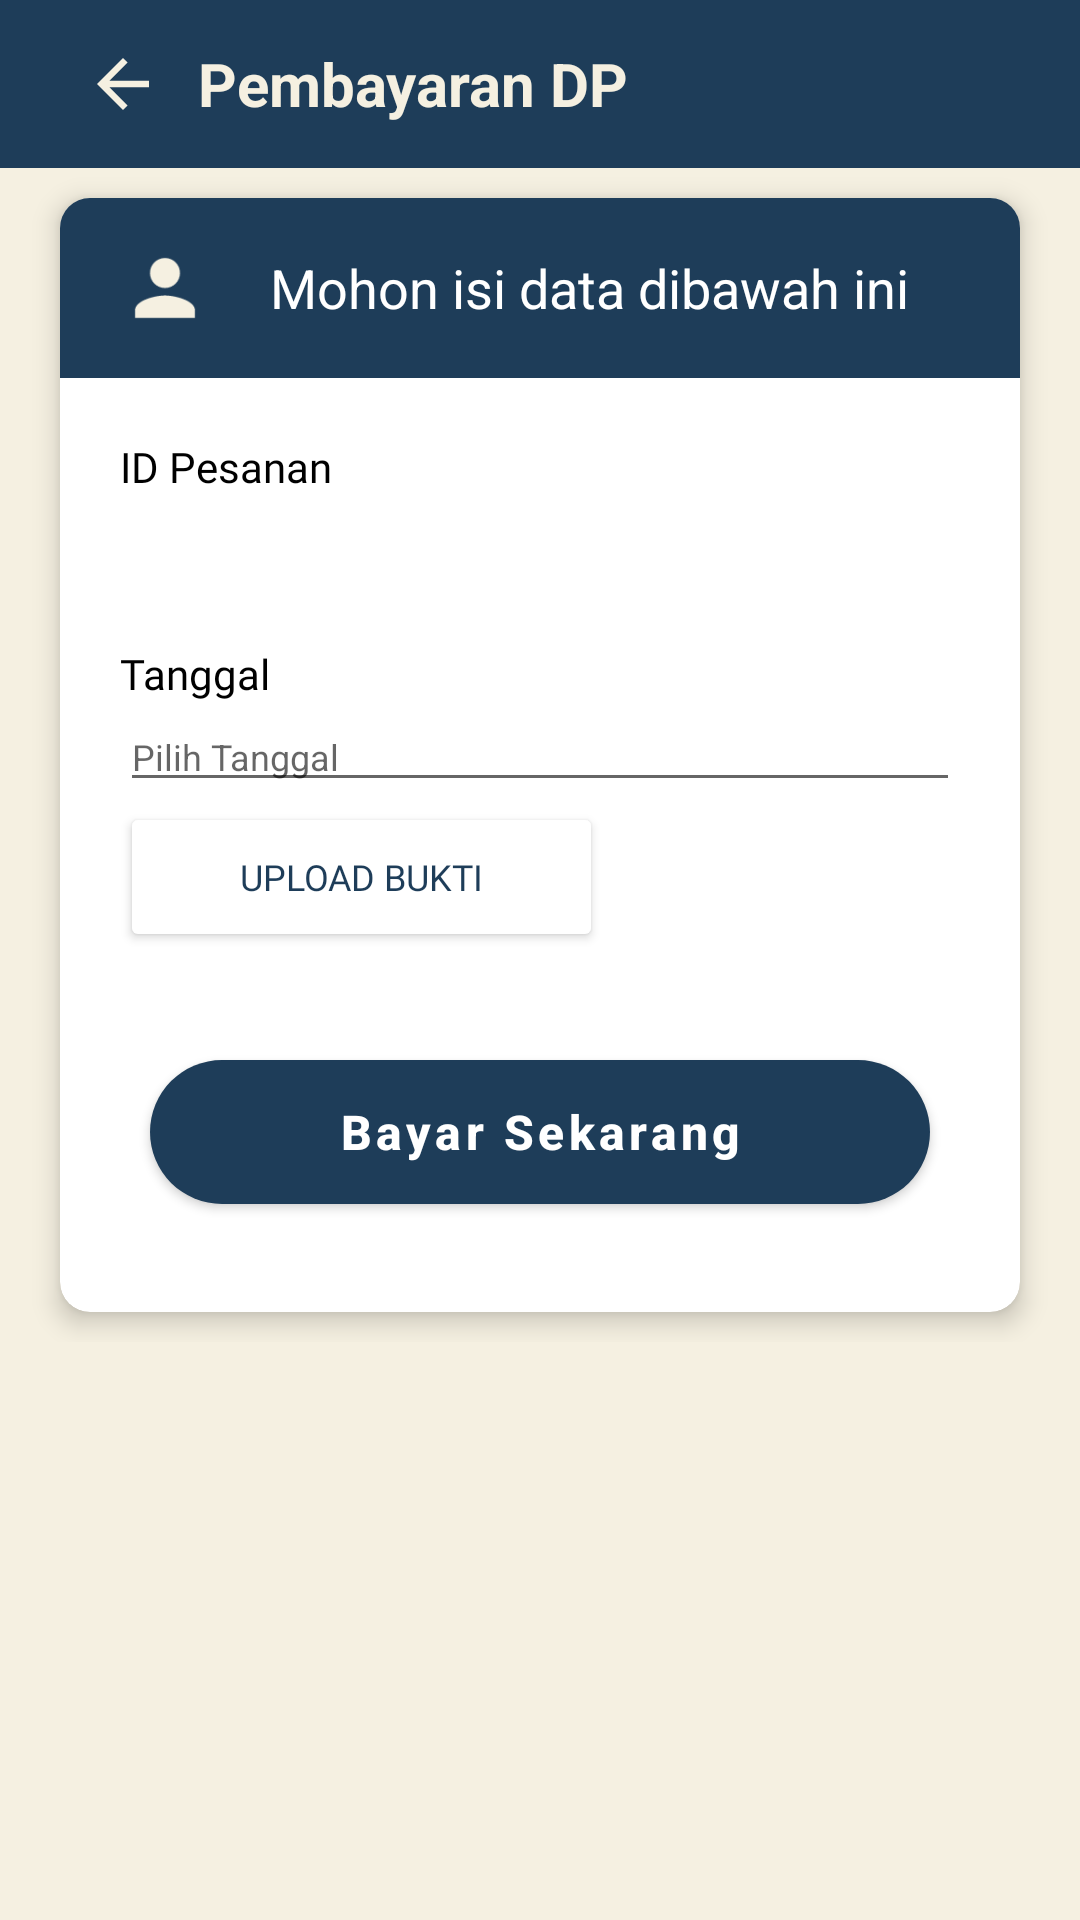

Point at icon controls on the screen. Image size 1080x1920, points as (x,y).
arrow back: (123,84)
person: (165,288)
